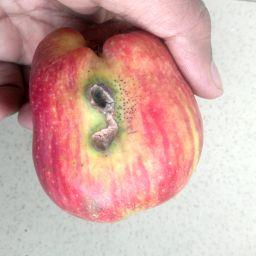apple: (13, 19, 216, 227)
